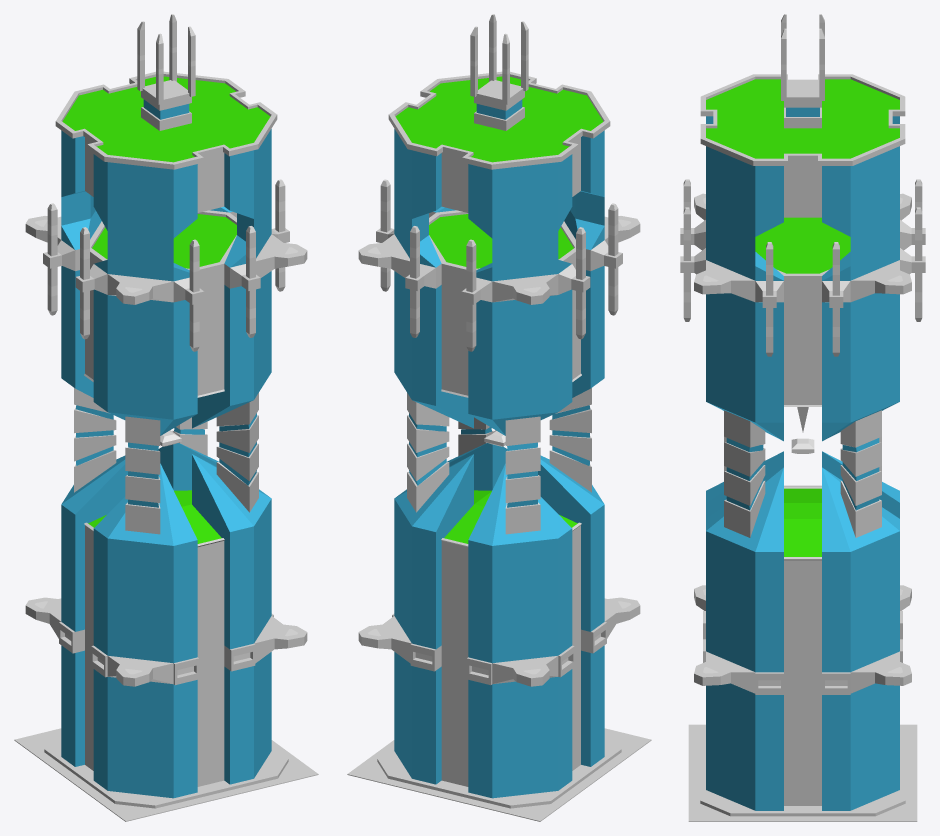
File: Chroma Skyscraper P.fbx
3 renders of one model, left to right at view 1: azimuth 30°, elevation 25°; view 2: azimuth 150°, elevation 25°; view 3: azimuth 270°, elevation 25°, orthographic. The views are drawn at different scales.
Parts seen in each view (by area): view 1: Cube, Ground; view 2: Cube, Ground; view 3: Cube, Ground.
Boxes of the visible parts, left/top/right/bottom form: Cube: left=25, top=14, right=307, bottom=808; Ground: left=14, top=728, right=318, bottom=821; Cube: left=358, top=14, right=640, bottom=808; Ground: left=347, top=728, right=651, bottom=821; Cube: left=680, top=14, right=925, bottom=816; Ground: left=688, top=724, right=917, bottom=821.
Bounding box in the file's own units: 4300 × 14525 × 4300.
